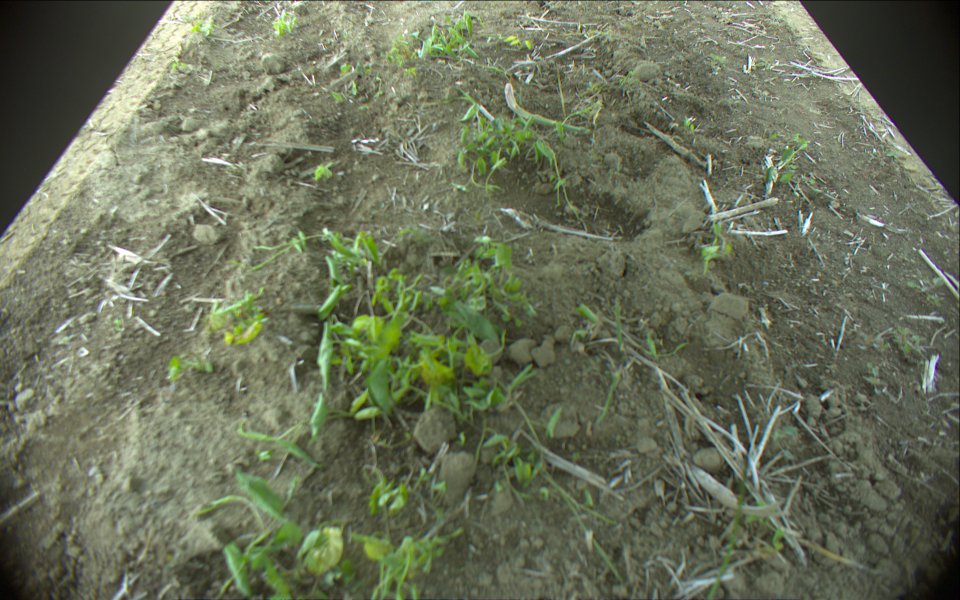aspa: (505, 82, 592, 135)
